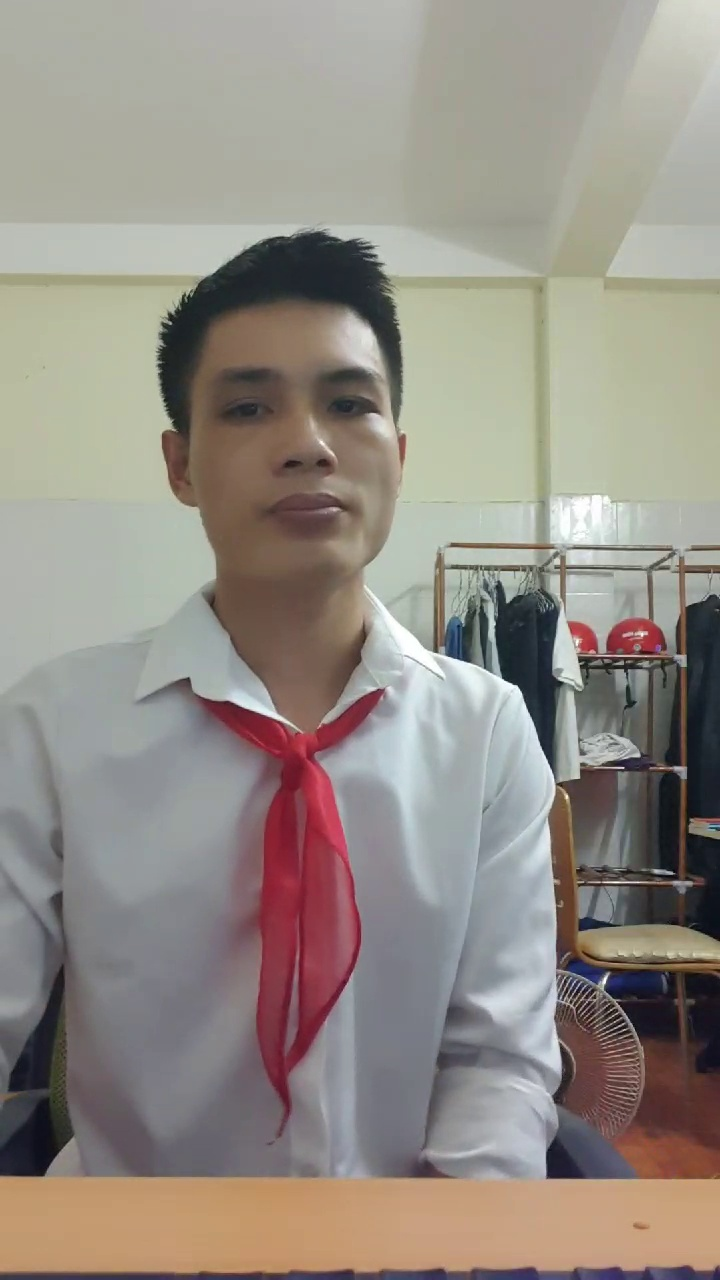redscarf: (247, 710, 369, 1018)
